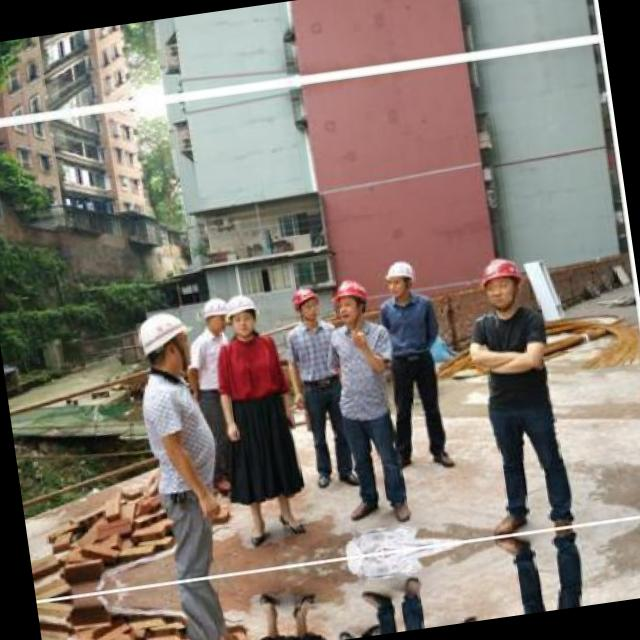helmet: (132, 308, 197, 380), (473, 253, 526, 310), (327, 276, 370, 328), (220, 288, 258, 337), (380, 256, 419, 300), (289, 282, 321, 322), (202, 294, 231, 332)
